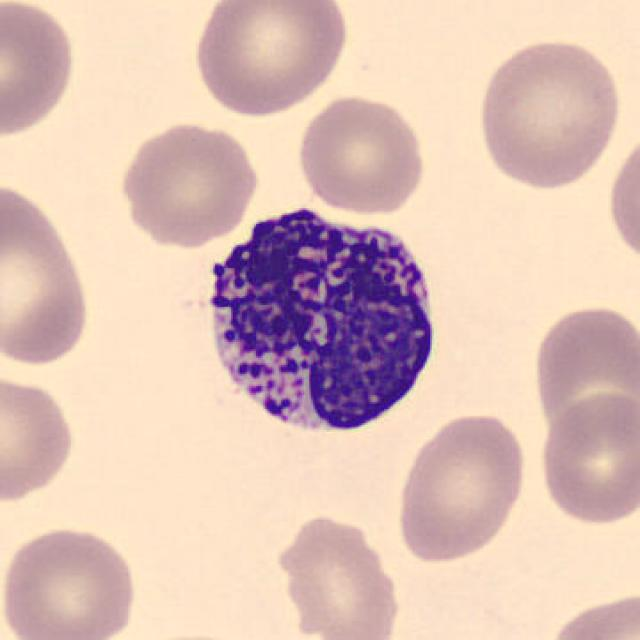Basophil: (188, 192, 454, 453)
RBC: (471, 35, 626, 192), (391, 407, 532, 566), (114, 117, 263, 250), (188, 0, 352, 120), (0, 175, 96, 370), (265, 509, 407, 640), (294, 90, 431, 217), (0, 522, 142, 640), (526, 298, 638, 446), (534, 388, 638, 527), (0, 0, 80, 141), (0, 370, 80, 508), (604, 125, 640, 273), (544, 587, 638, 640)
